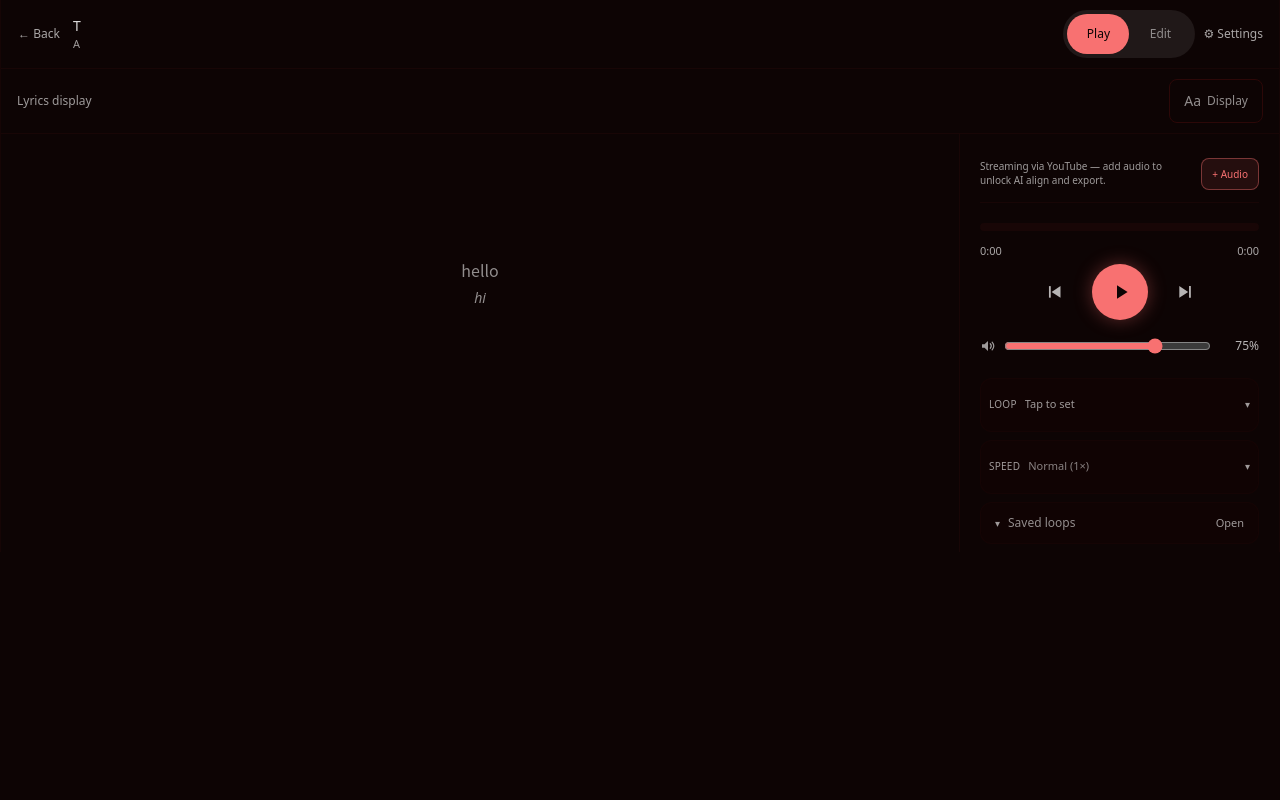
Test: PlayerView — replace-lyrics dialog › is announced as a modal dialog and traps focus inside itself
expect the text "hello" is shown: met, box [461,258,499,282]
Click the button "Edit": (1160, 34) [1130,14,1192,54]
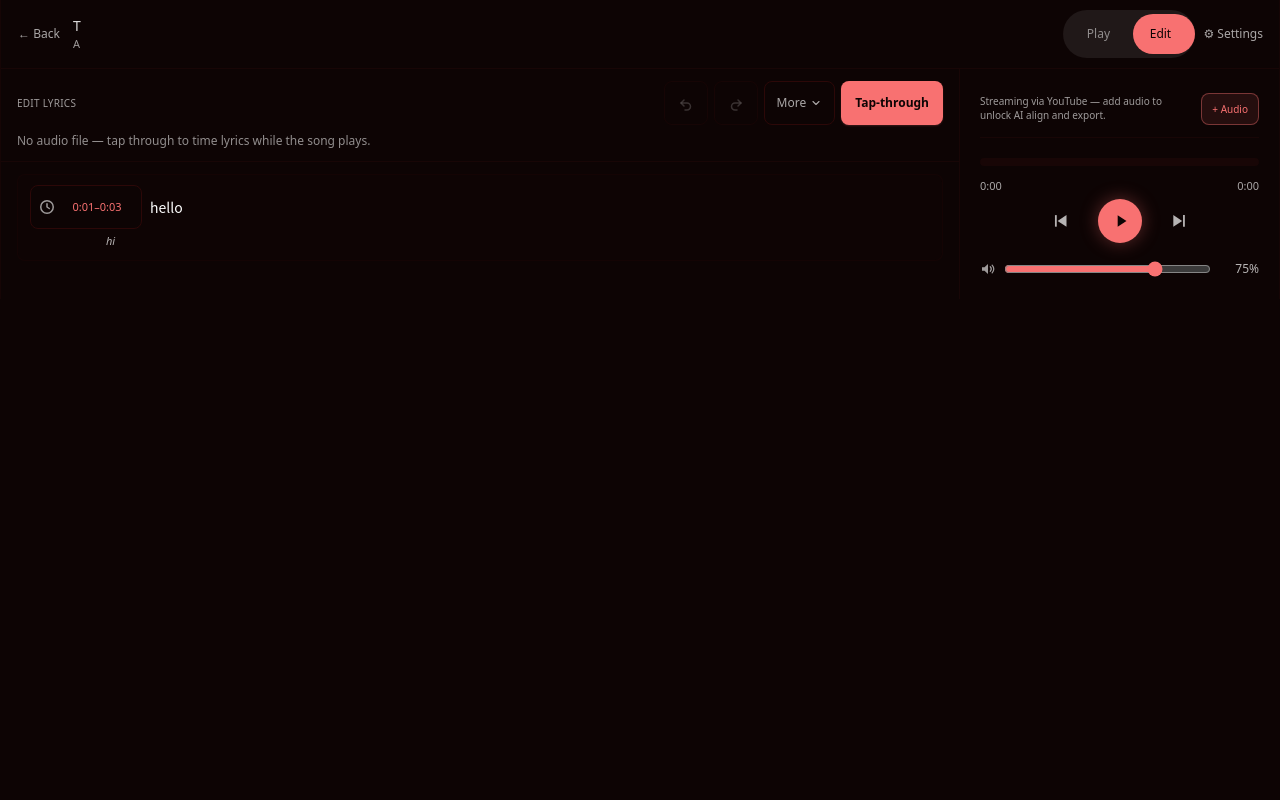
expect the button named "edit timestamp for line 1" is shown: met, box [30,185,142,229]
Click the button "More": (799, 103) [764,81,835,125]
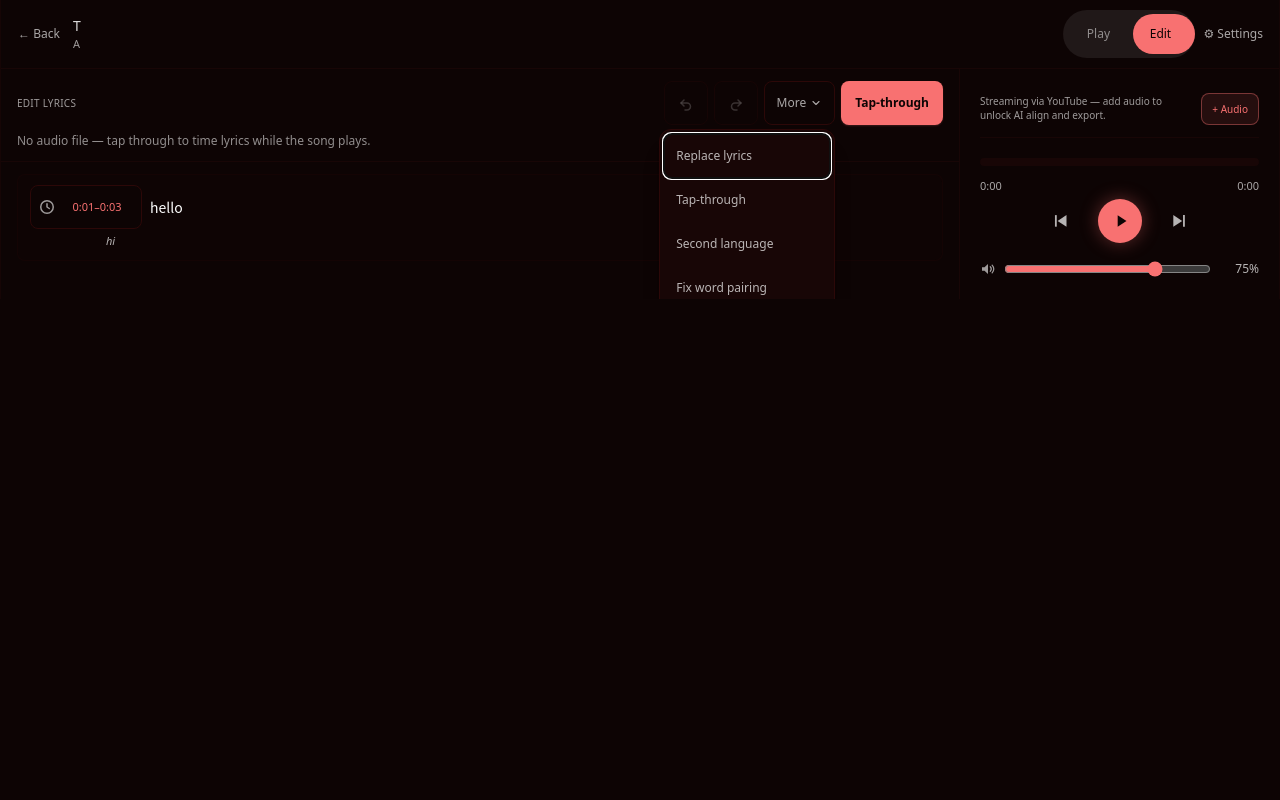
Click the button "Replace lyrics": (747, 156) [664,134,830,178]
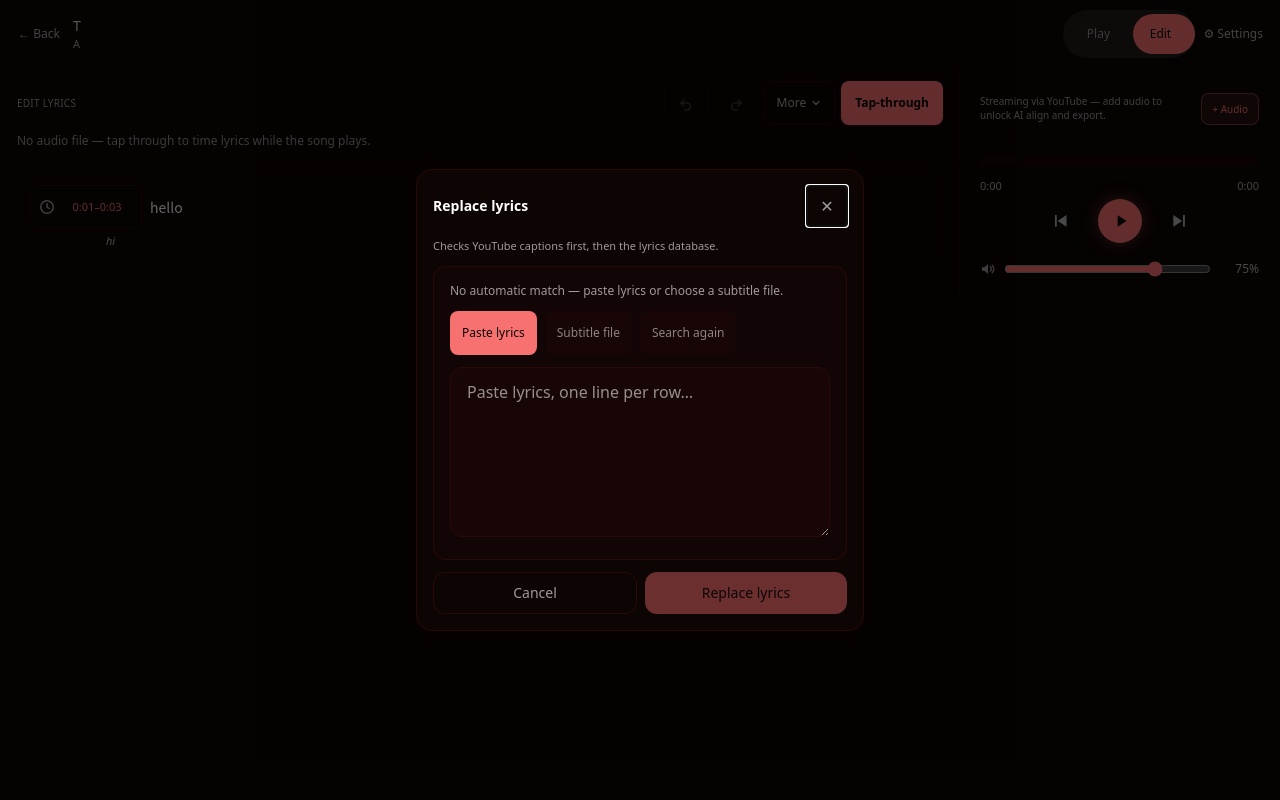
expect the text "No automatic match — paste lyrics or choose a subtitle file." is shown: met, box [450,283,830,299]
